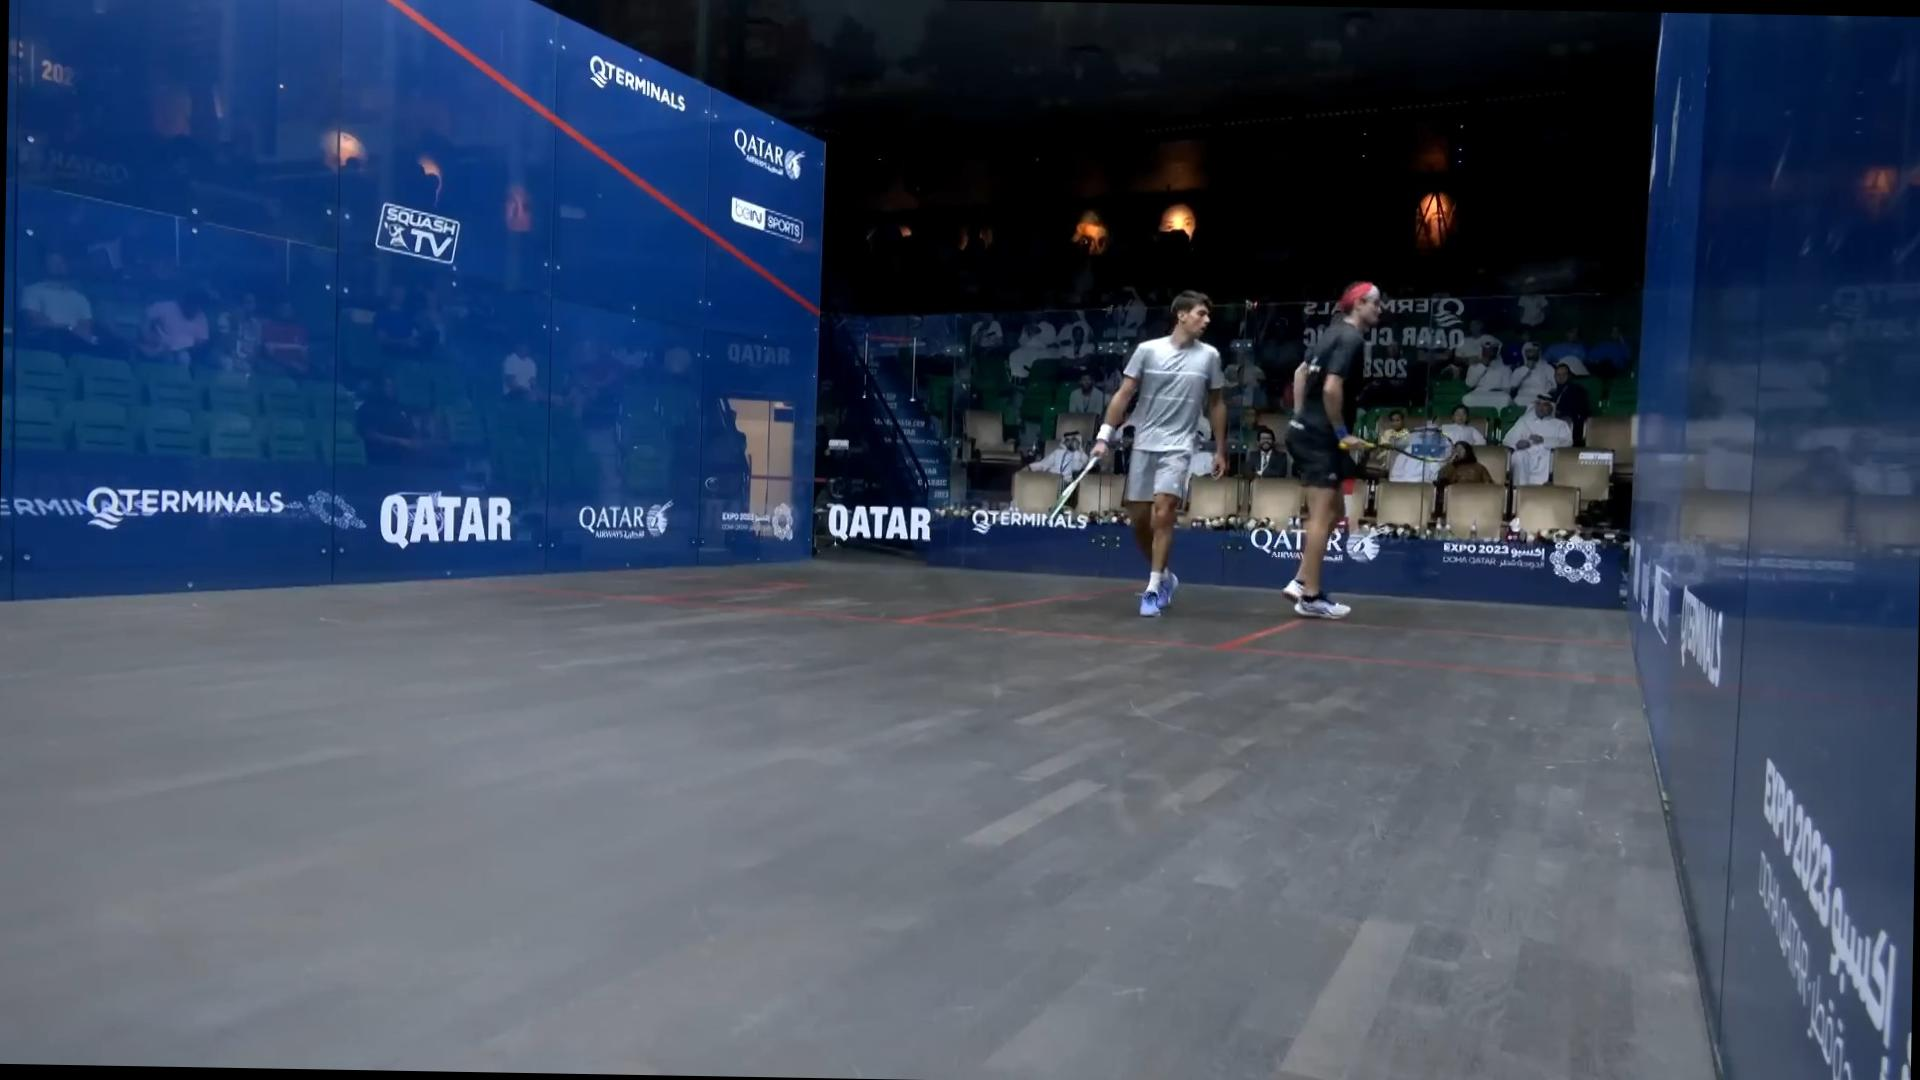Racket: (1371, 423, 1462, 471)
